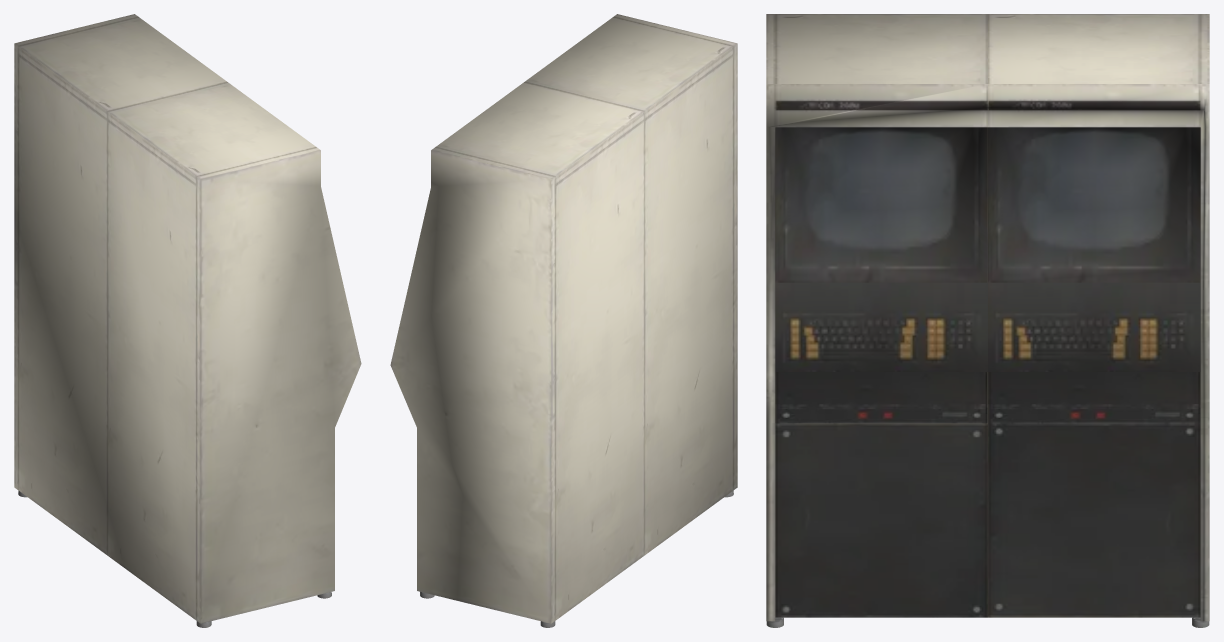
The model's file is computer_cabinet_d.glb.
3 renders of one model, left to right at view 1: azimuth 30°, elevation 25°; view 2: azimuth 150°, elevation 25°; view 3: azimuth 270°, elevation 25°, orthographic. The views are drawn at different scales.
Parts seen in each view (by area): view 1: computer_cabinet_d; view 2: computer_cabinet_d; view 3: computer_cabinet_d.
Boxes of the visible parts, <box> form: computer_cabinet_d: <box>14,14,361,627</box>; computer_cabinet_d: <box>390,14,737,627</box>; computer_cabinet_d: <box>766,14,1209,627</box>.
Bounding box in the file's own units: 0.7489 × 2 × 1.5.
1 material, 1 textured.
